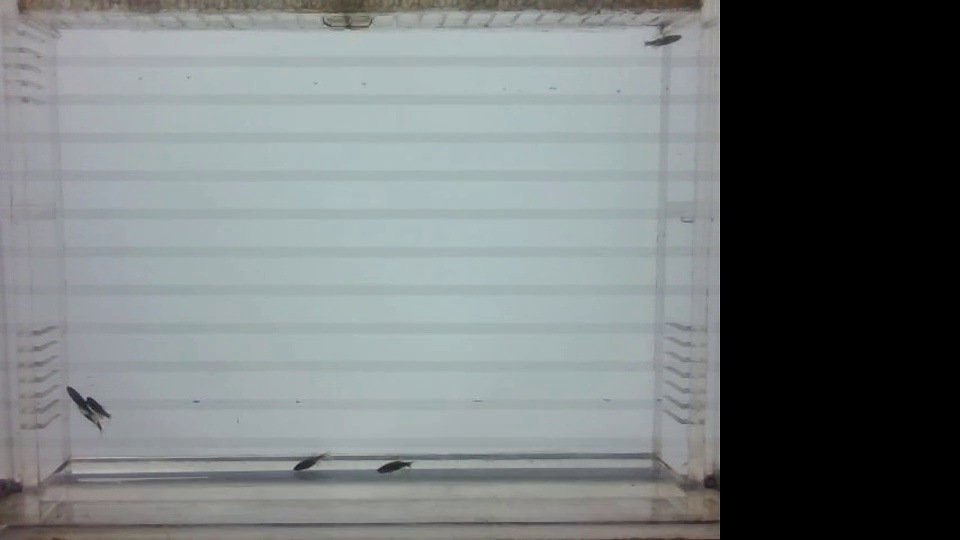fish: (61, 380, 88, 416), (86, 390, 117, 421), (369, 456, 416, 476), (284, 452, 330, 472), (642, 28, 686, 48), (76, 410, 105, 436)
